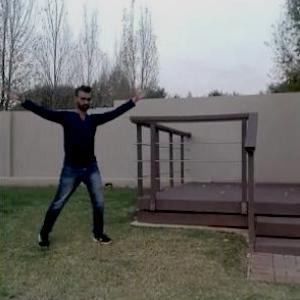takeoff: (0, 82, 145, 244)
